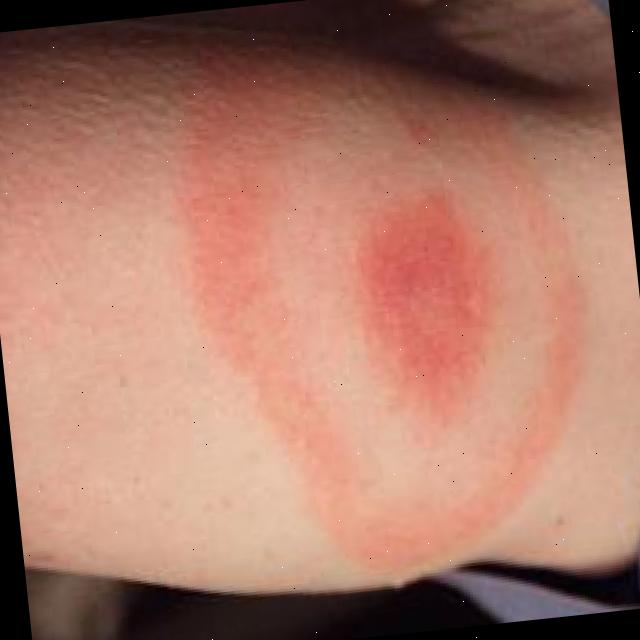kene: (86, 1, 640, 640)
